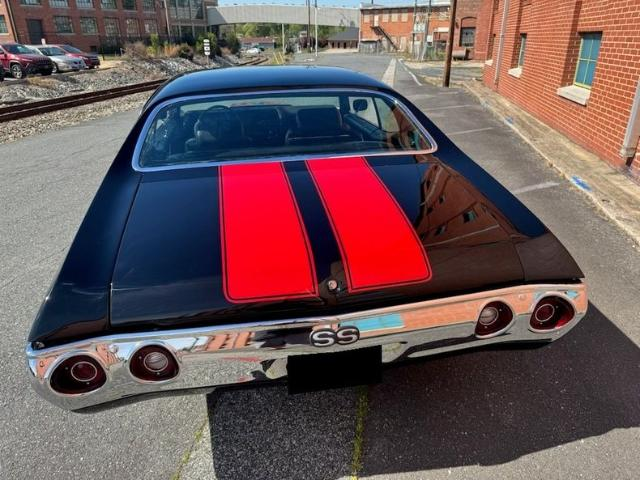chevelle-1972: (25, 66, 587, 411)
